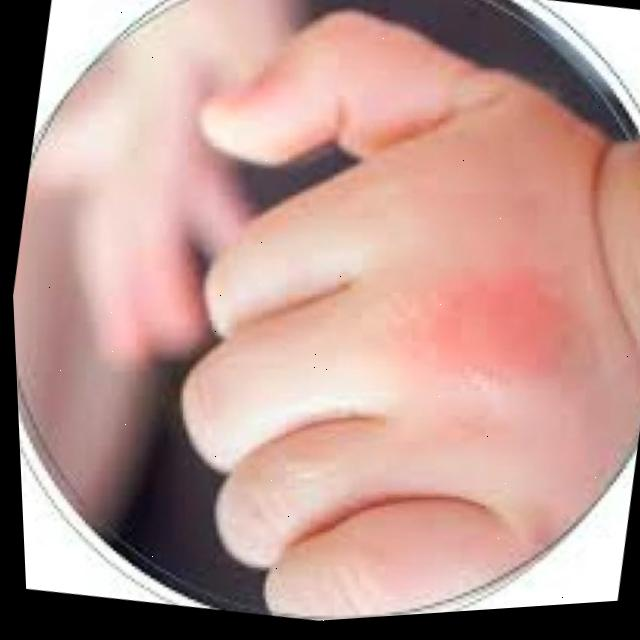Eczema: (389, 254, 592, 405)
